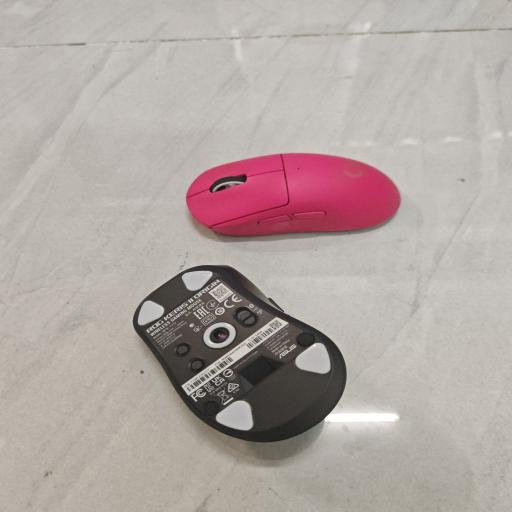mouse: (133, 266, 346, 442), (187, 154, 400, 236)
